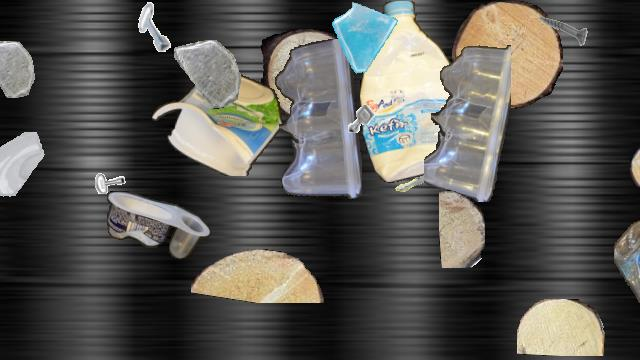glass: (328, 1, 402, 75), (174, 40, 242, 108), (0, 132, 50, 214), (0, 41, 36, 97)
metal: (378, 152, 436, 210), (530, 1, 588, 59), (130, 1, 182, 53), (85, 149, 129, 193), (340, 98, 382, 140)
plastic: (360, 1, 462, 183), (272, 39, 362, 203), (152, 70, 282, 176), (424, 41, 510, 201), (107, 191, 209, 259), (614, 220, 640, 332)
wood: (452, 1, 562, 109), (258, 29, 354, 119), (191, 249, 327, 303), (517, 299, 605, 355), (439, 190, 485, 268), (630, 146, 640, 198)
